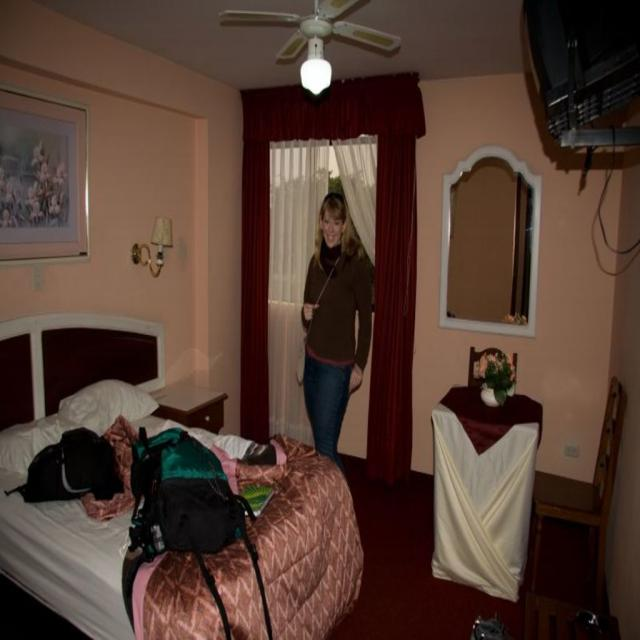Bulb: (218, 0, 402, 94)
